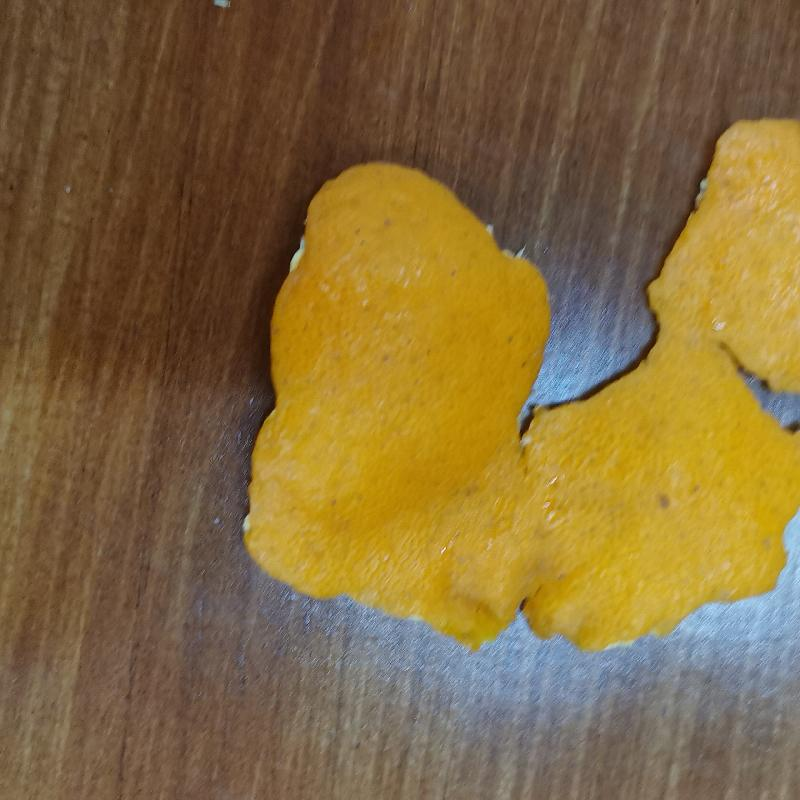orange: (225, 118, 800, 652)
